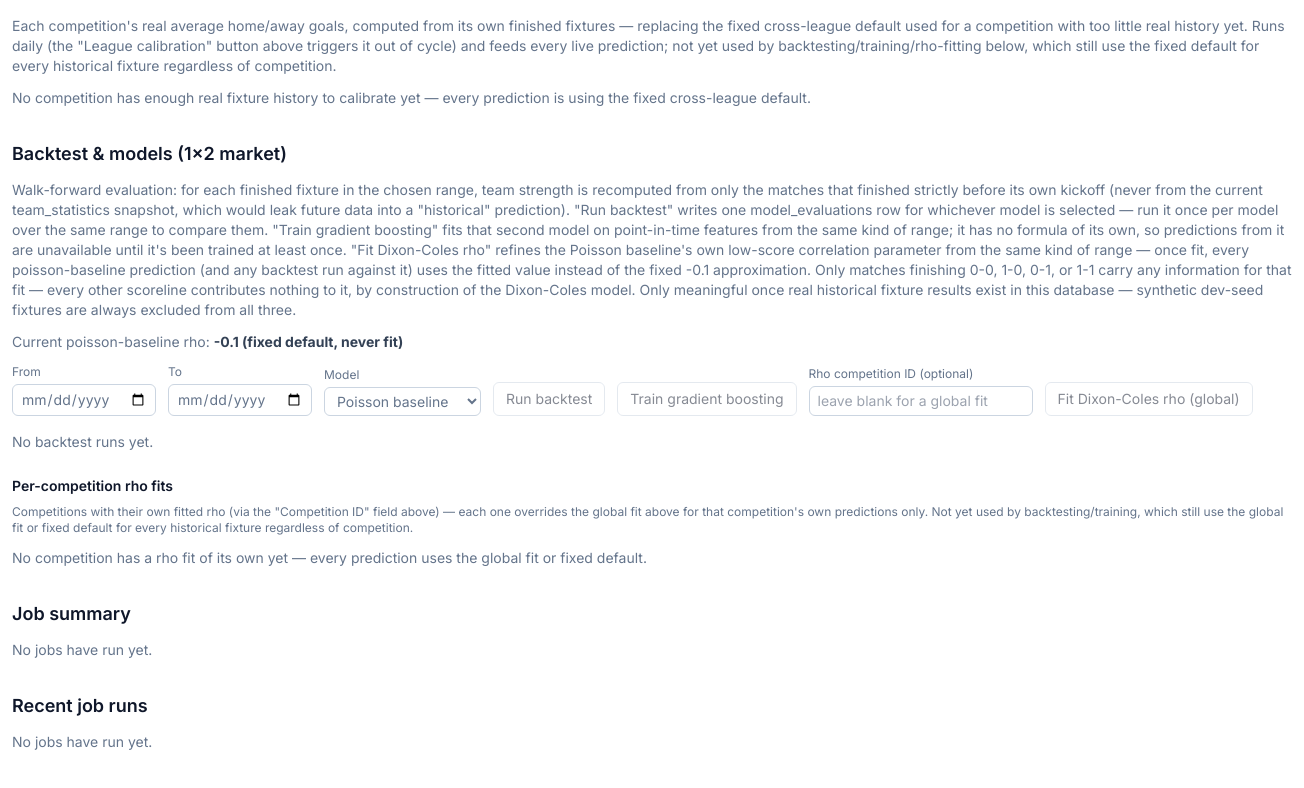
Scenario: AdminDashboard › shows an error message when the backtest run fails, without crashing the rest of the dashboard
This screenshot has width=1304, height=788.
(page scrolled)
Expected: the button "Run backtest" is shown, top-left (493, 382), bottom-right (605, 416)
Type "2024-01-01" into the date field labelled "From" at (84, 400), box top-left (12, 384), bottom-right (156, 416)
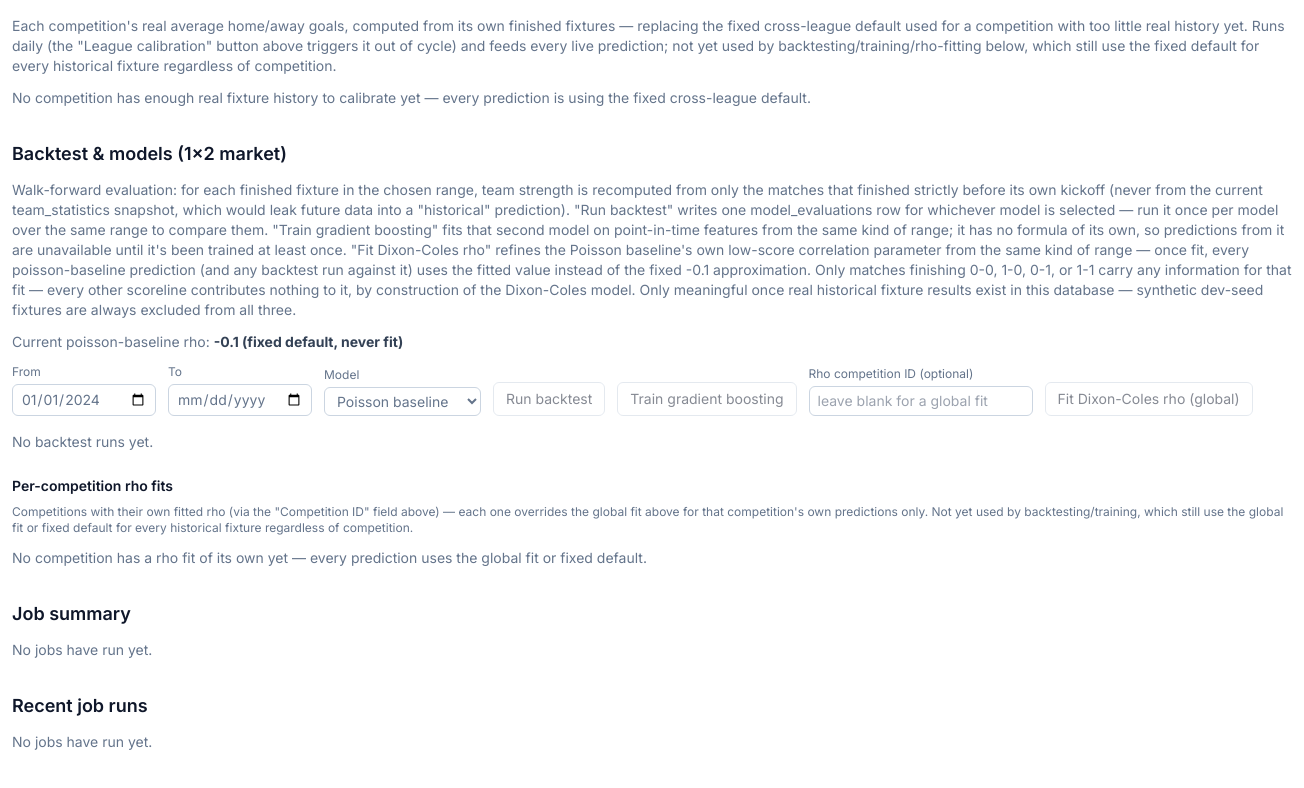
Type "2024-01-31" into the date field labelled "To" at (240, 400), box top-left (168, 384), bottom-right (312, 416)
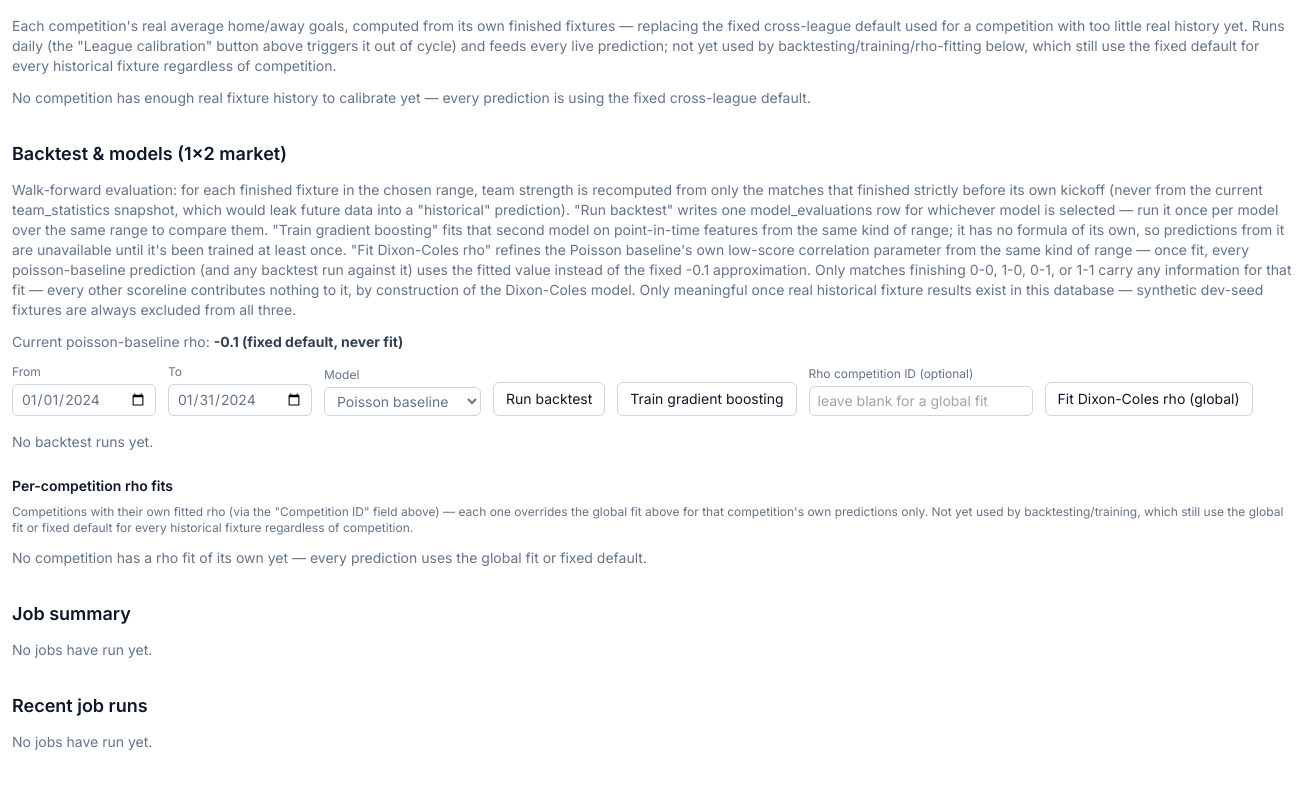
Click the button "Run backtest" at (549, 399), box top-left (493, 382), bottom-right (605, 416)
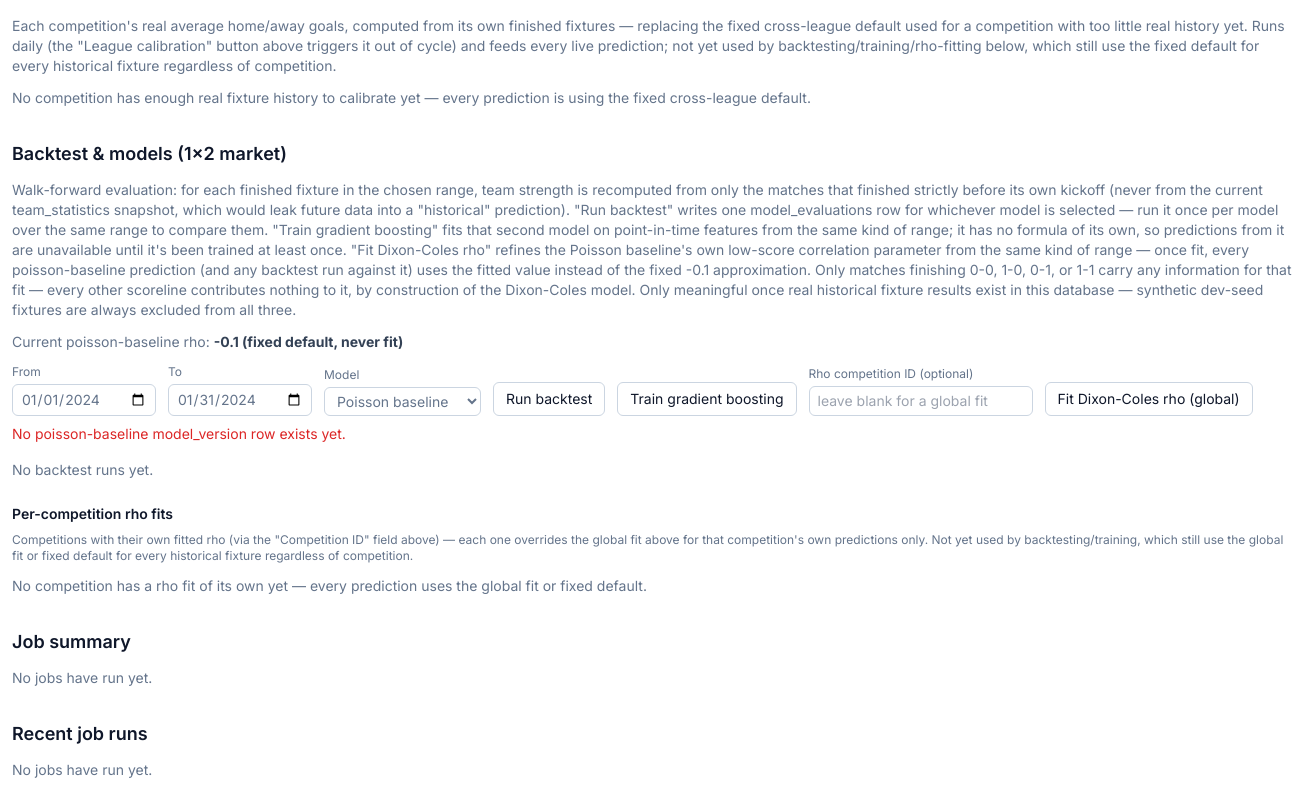
Expected: the text "No poisson-baseline model_version row exists yet." is shown, top-left (12, 425), bottom-right (346, 442)
